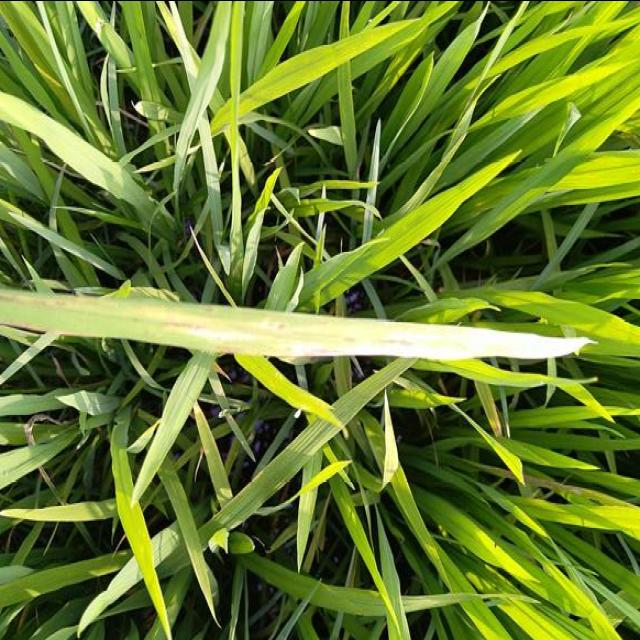Leaf Streak: (0, 289, 585, 364)
